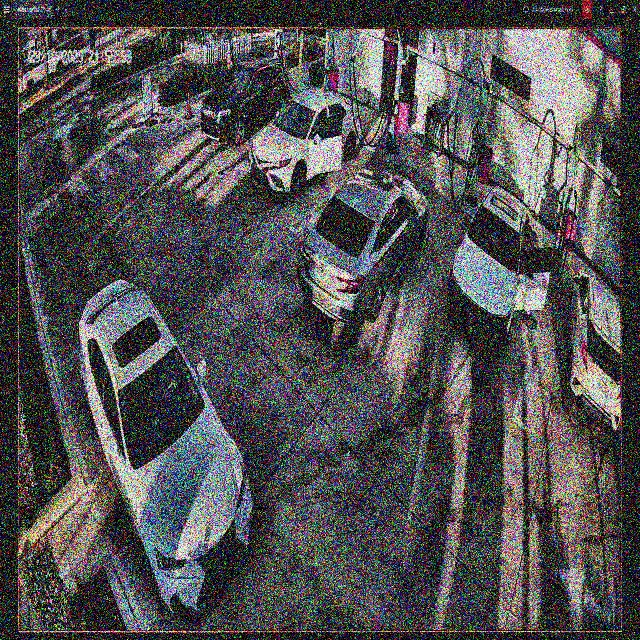Car: (79, 277, 254, 614), (299, 168, 427, 322), (448, 187, 552, 345), (251, 90, 360, 193), (202, 57, 292, 146)
